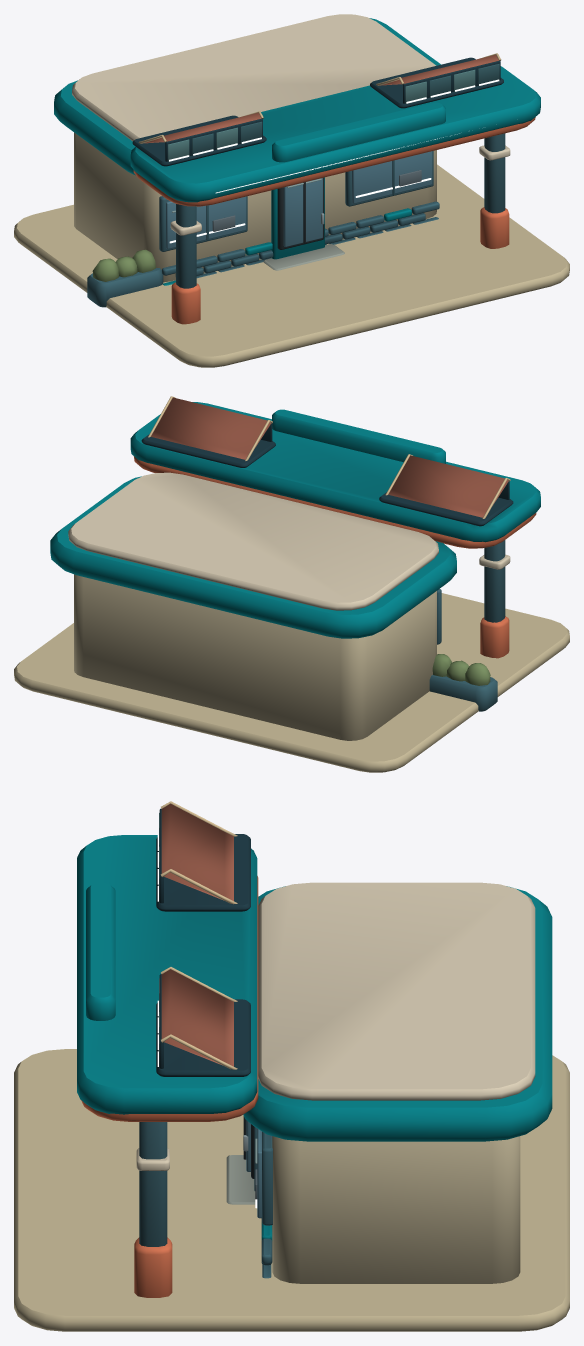
Rendered from ocean_fuel.glb.
3 renders of one model, top to bottom at view 1: azimuth 30°, elevation 25°; view 2: azimuth 150°, elevation 25°; view 3: azimuth 270°, elevation 25°, orthographic. The views are drawn at different scales.
Visible parts, largest first — view 1: Fuel; view 2: Fuel; view 3: Fuel.
Boxes of the visible parts, bbox=[...] form: Fuel: bbox=[14, 14, 569, 367]; Fuel: bbox=[14, 396, 569, 772]; Fuel: bbox=[14, 801, 569, 1331].
Bounding box in the file's own units: 8.54 × 4.02 × 7.3.
